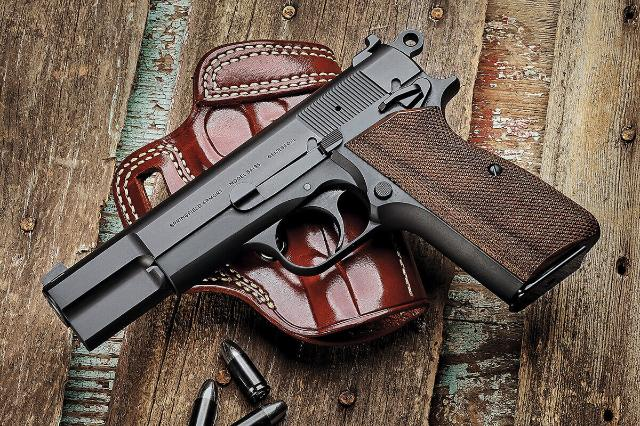handgun: (32, 26, 604, 358)
